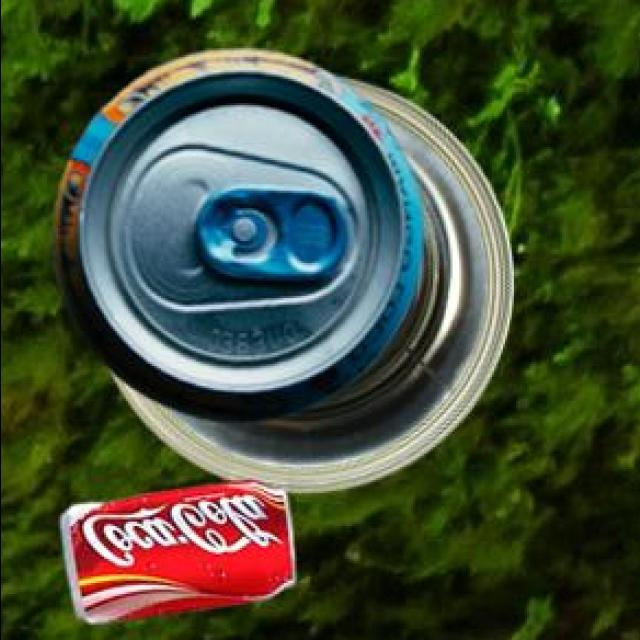logam: (113, 82, 516, 496), (56, 52, 424, 424), (62, 483, 297, 626)
